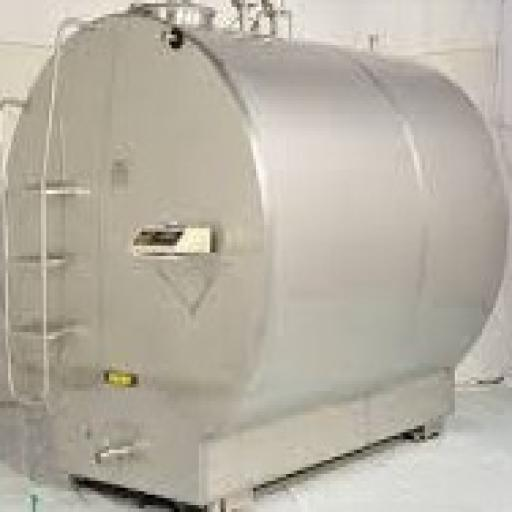silo: (0, 0, 507, 509)
